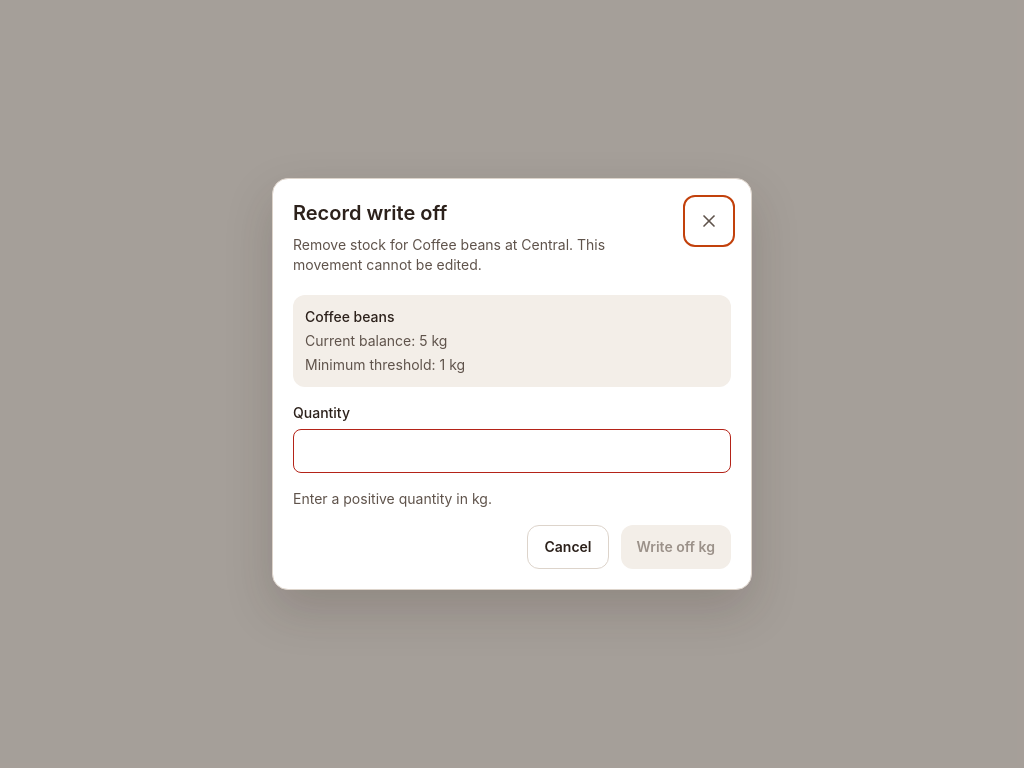
Test: inventory movement dialog › blocks a write off above the current balance and shows its impact
Type "2.5" into the field labelled "Quantity" at (512, 451), box top-left (293, 429), bottom-right (731, 473)
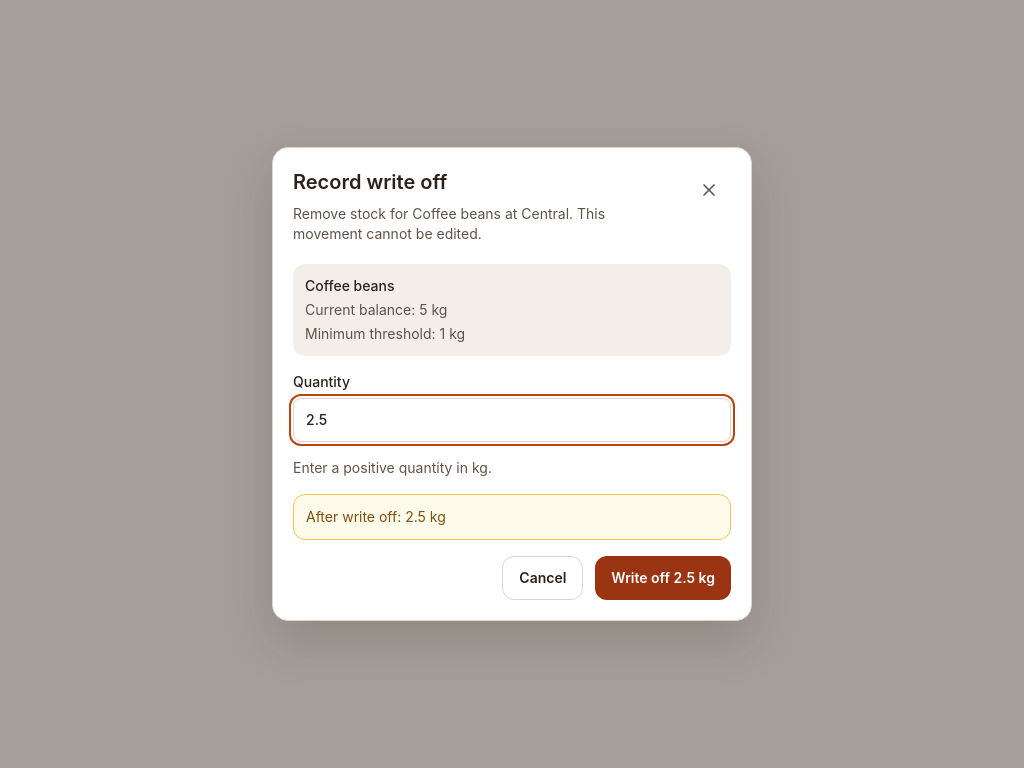
Result: the text "After write off: 2.5 kg" is shown at top-left (293, 494), bottom-right (731, 540)
Clear the field labelled "Quantity" at (512, 420), box top-left (293, 398), bottom-right (731, 442)
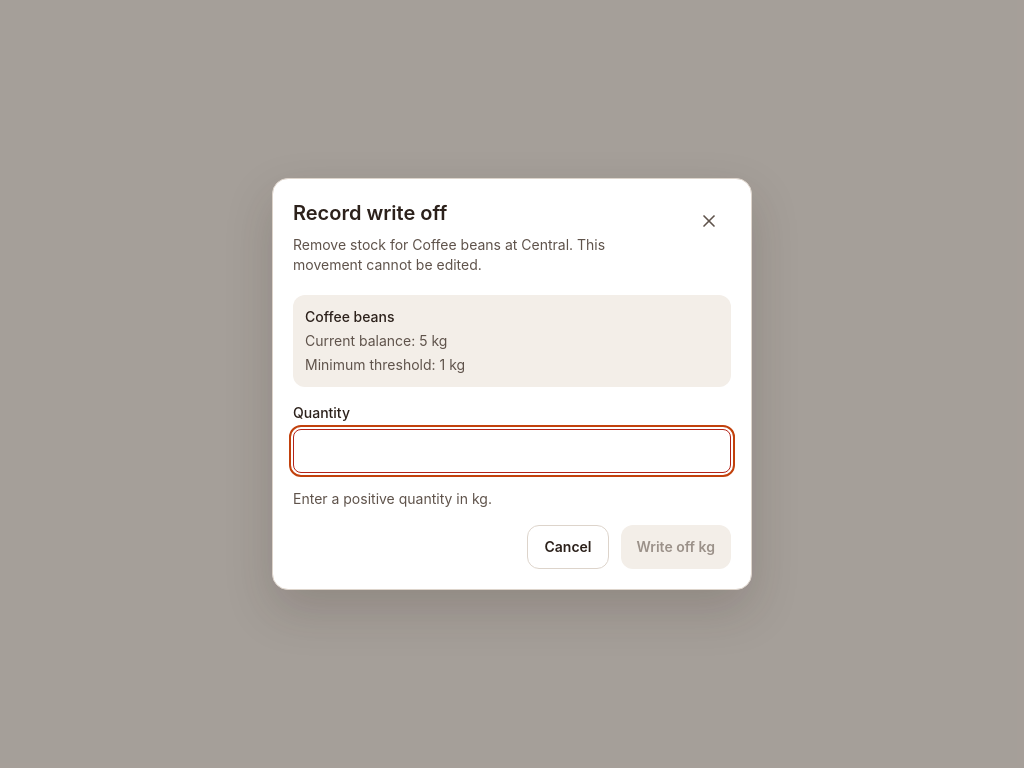
Type "6" into the field labelled "Quantity" at (512, 451), box top-left (293, 429), bottom-right (731, 473)
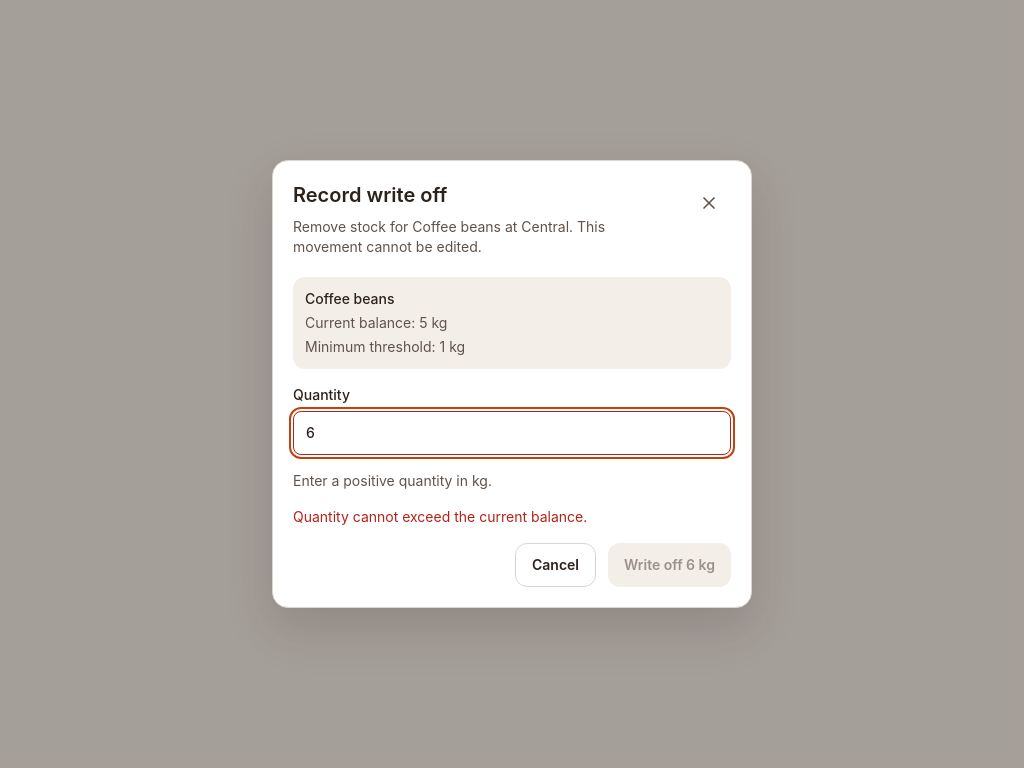
Result: the button "Write off 6 kg" is disabled at top-left (608, 543), bottom-right (731, 587)
Result: the text "Quantity cannot exceed the current balance." is shown at top-left (293, 508), bottom-right (587, 525)
